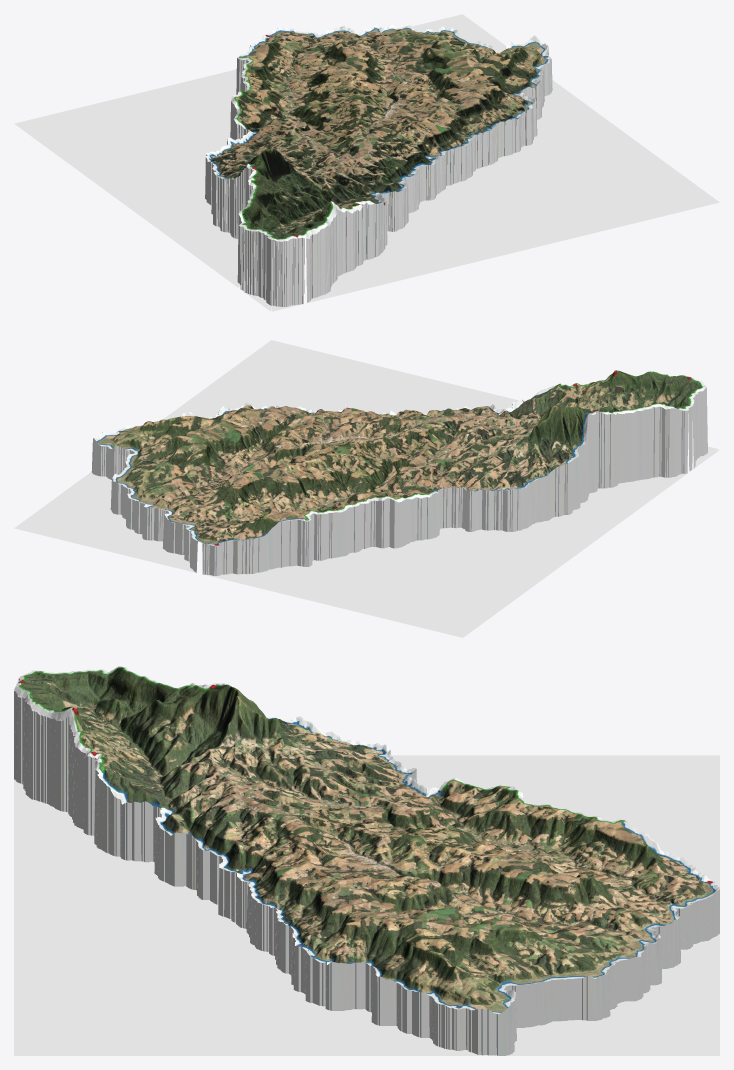
3 views of the same model, one above another, from view 1: azimuth 30°, elevation 25°; view 2: azimuth 150°, elevation 25°; view 3: azimuth 270°, elevation 25° (orthographic). The views are drawn at different scales.
Size of the model in its own units: 1 by 0.1799 by 0.993.
Materials: 1 (1 with a texture image).
